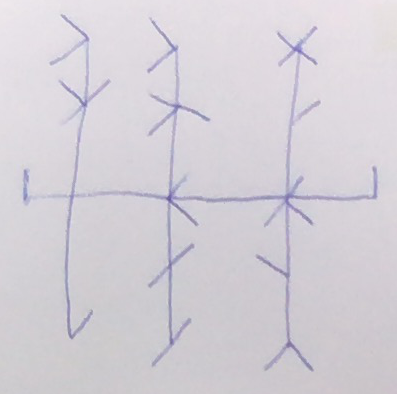Bar: (255, 26, 321, 371), (147, 16, 211, 367), (49, 15, 111, 339)
Barcode: (24, 15, 378, 371)
End: (305, 166, 378, 202)
Start: (24, 169, 68, 206)
